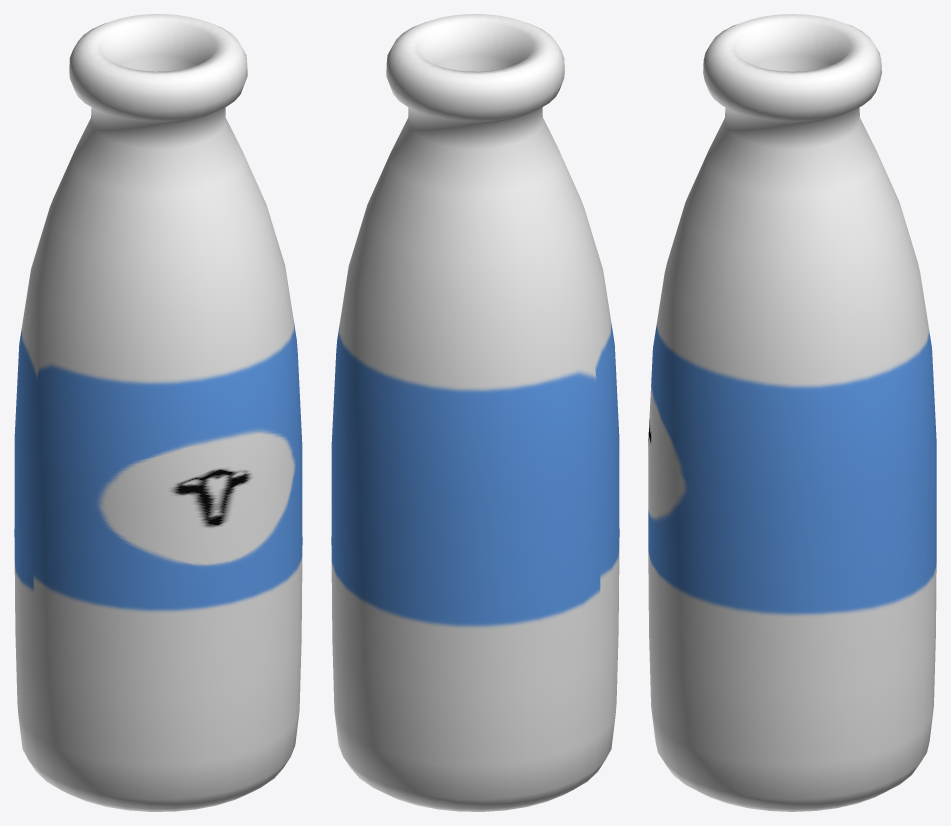
The model's file is Millk.fbx.
3 renders of one model, left to right at view 1: azimuth 30°, elevation 25°; view 2: azimuth 150°, elevation 25°; view 3: azimuth 270°, elevation 25°, orthographic.
Visible parts, largest first — view 1: Plane; view 2: Plane; view 3: Plane.
Part boxes in pixels (x1,y1,x2,y2): Plane: (14,14,302,811); Plane: (331,14,619,811); Plane: (648,14,936,811).
Bounding box in the file's own units: 131 × 364 × 131.
